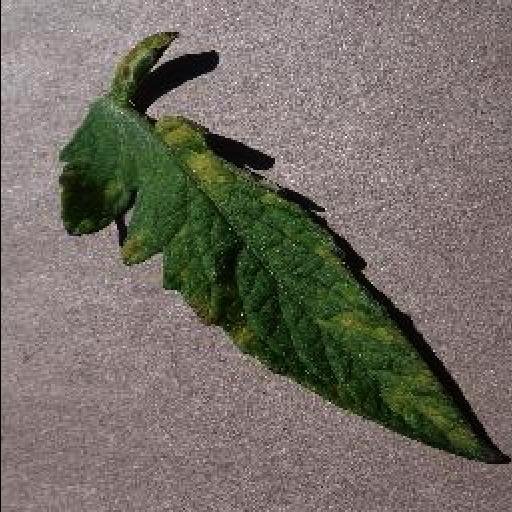disease_tomato: (60, 94, 512, 464)
